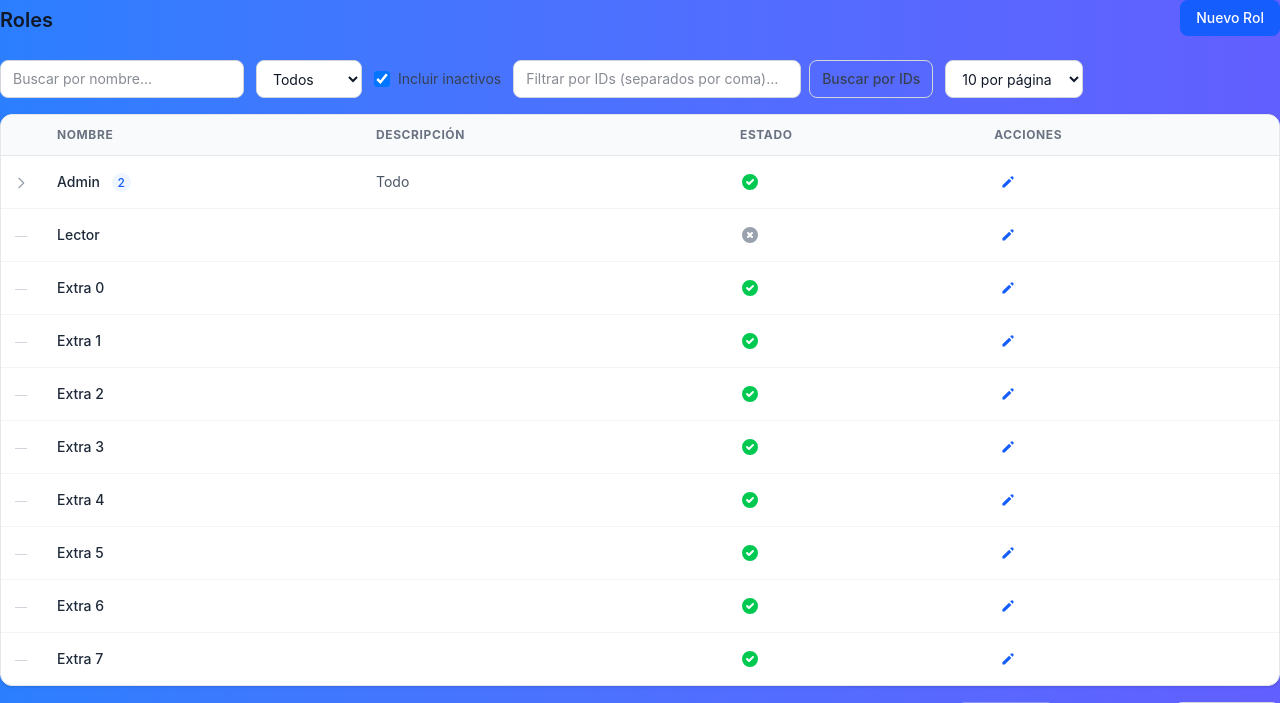
it: RolesListComponent › expands a role to show its features and collapses it again
Click the row "Admin 2 Todo".
click(640, 182)  # box [1,156,1279,208]
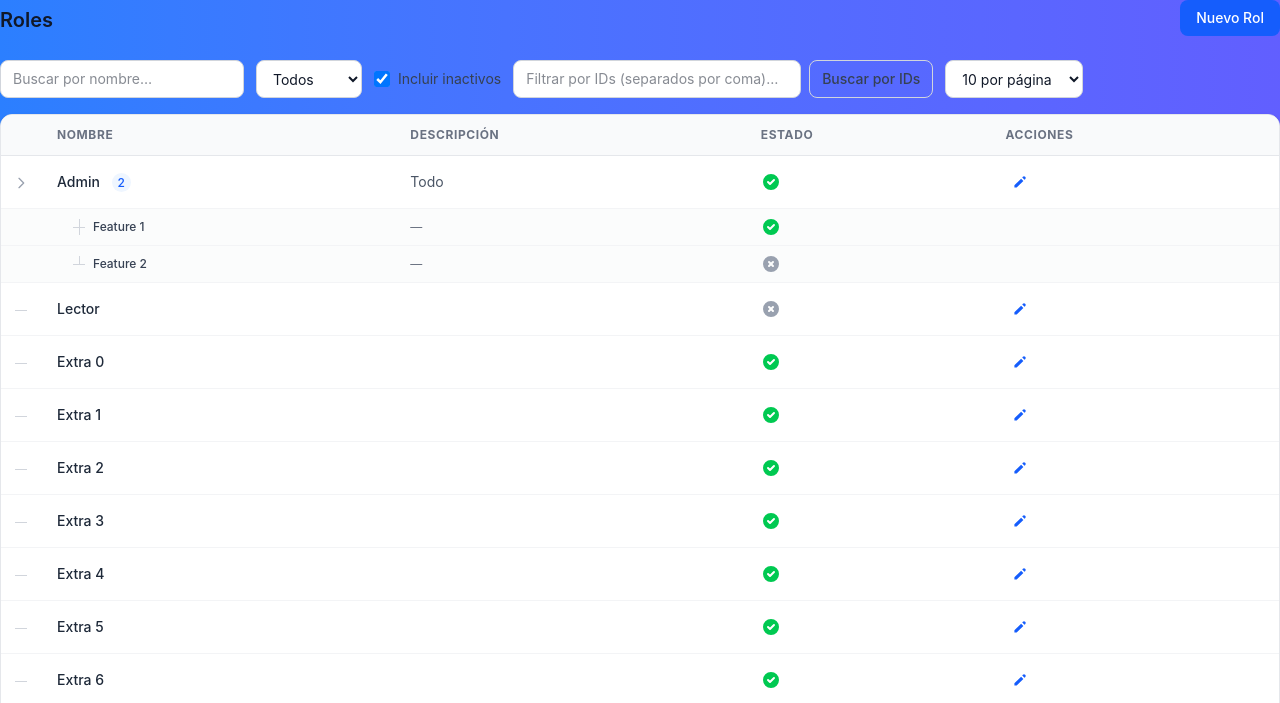
Result: the text "Feature 1" is shown at [93,219,145,235]
Result: the text "Feature 2" is shown at [93,256,147,272]
Click the row "Admin 2 Todo".
click(640, 182)  # box [1,156,1279,208]
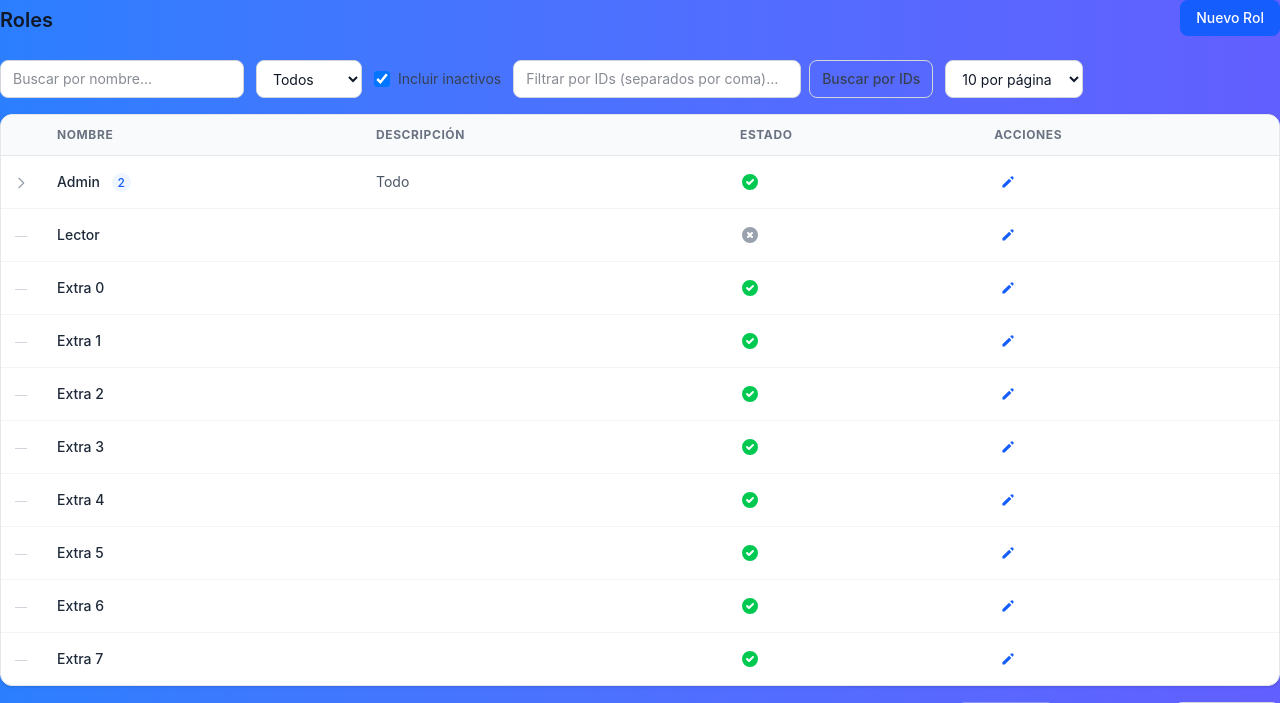
Result: the text "Feature 1" is gone
